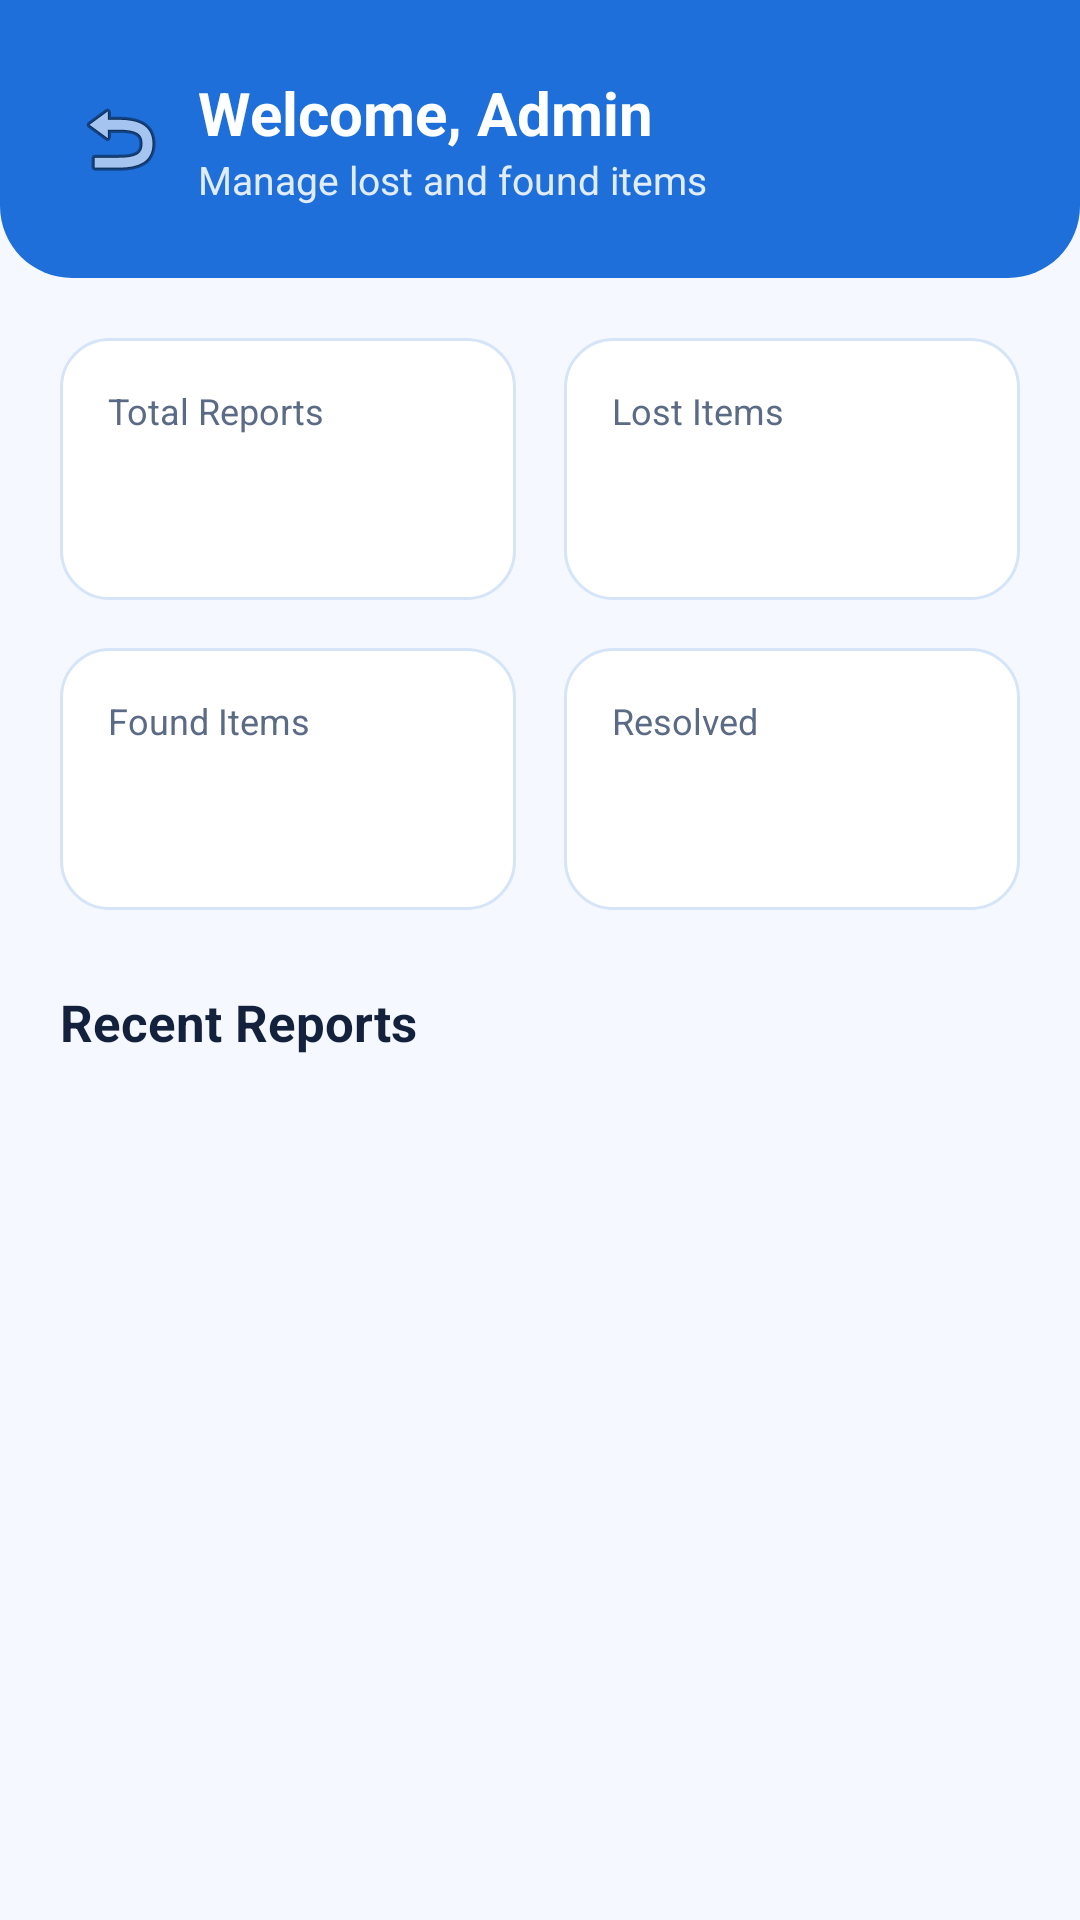

Icons on this 1080*1920 Android screen, each with its box as detection(x1, y1, x2, y2):
Back: detection(87, 108, 156, 171)
